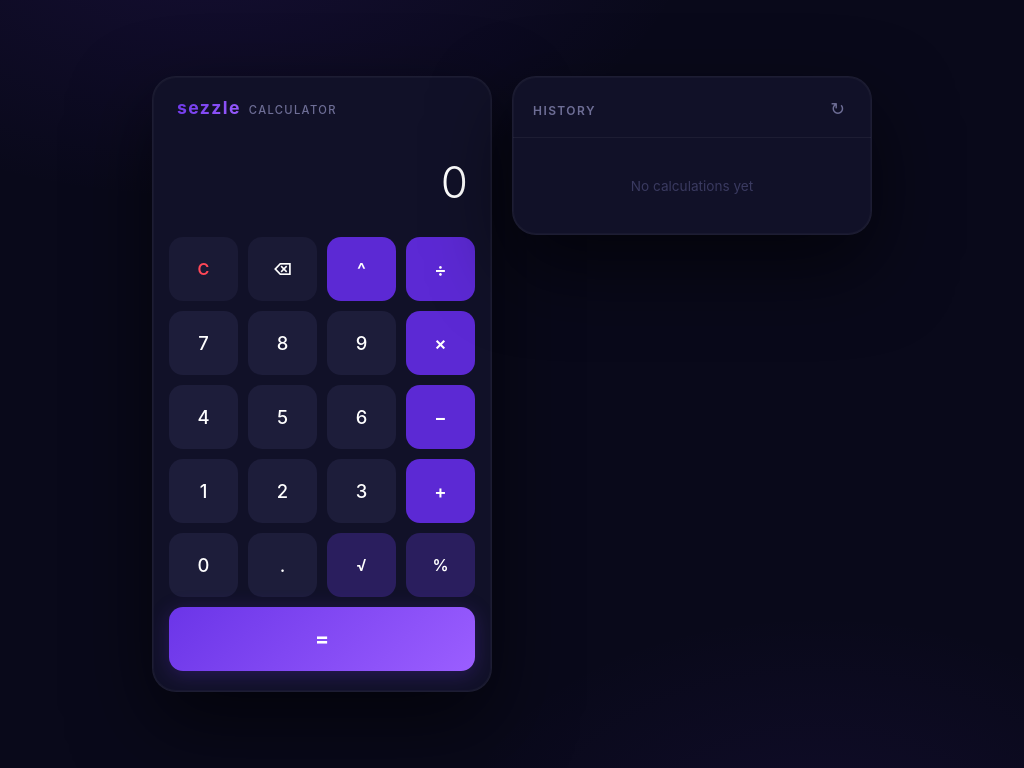
Test case: Calculator — interactions › shows result after a calculation
Click the button "1" at (204, 491), box [169,459,238,523]
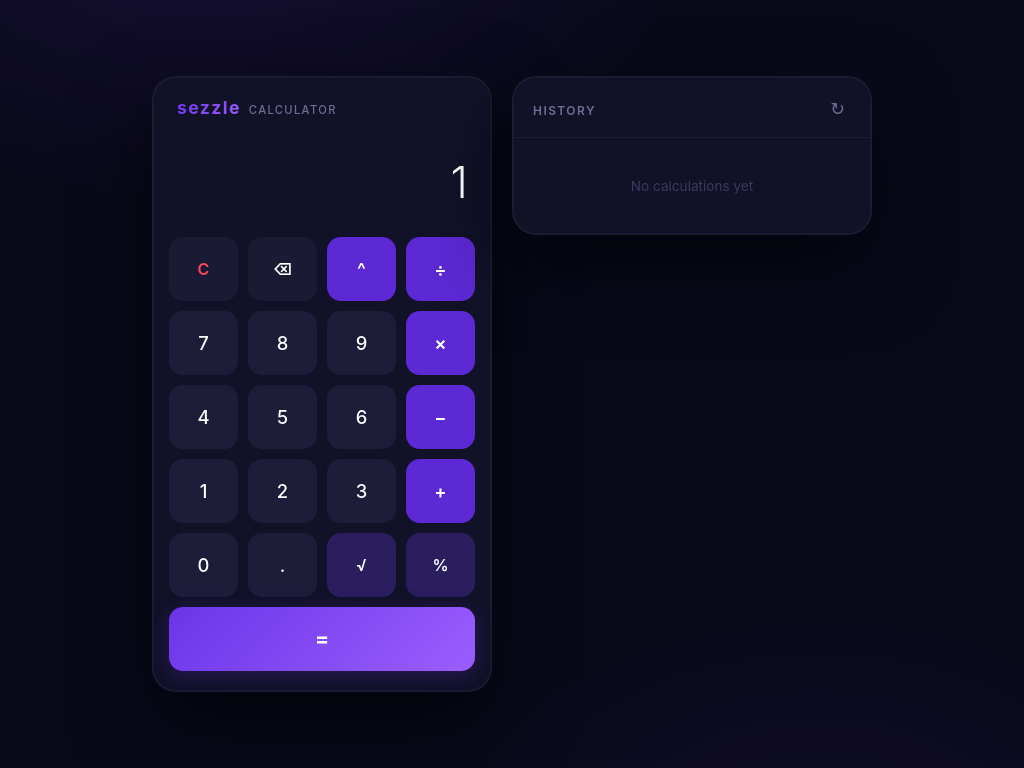
Click the button "0" at (204, 565), box [169,533,238,597]
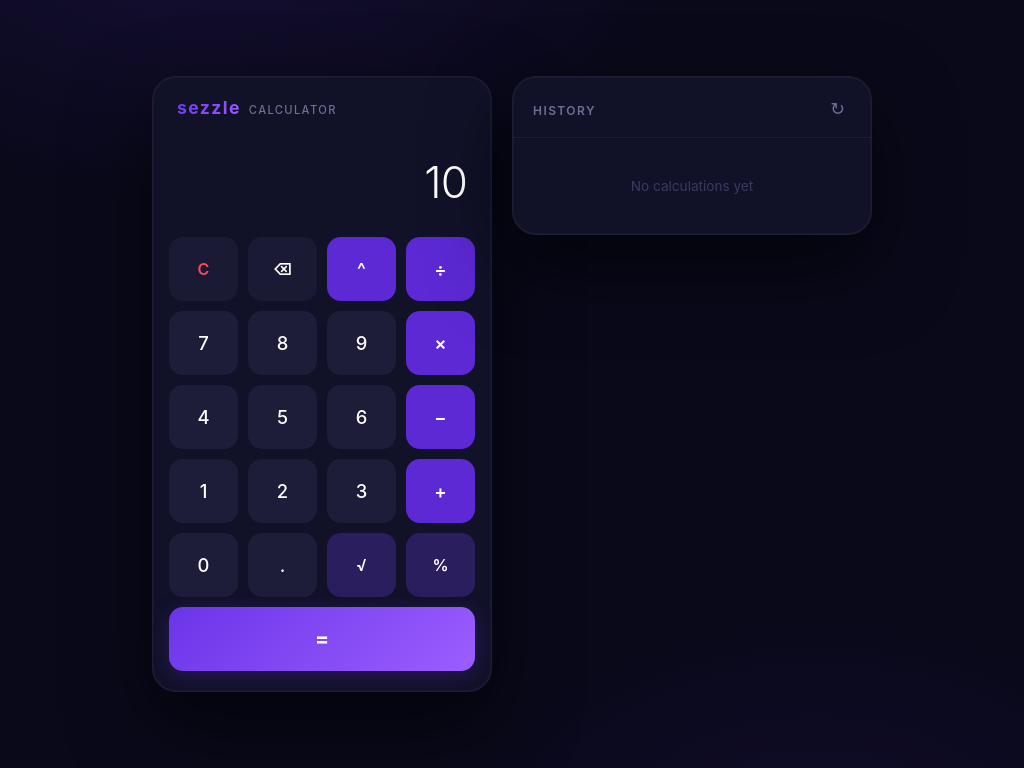
Click the button named "add" at (440, 491), box [406,459,475,523]
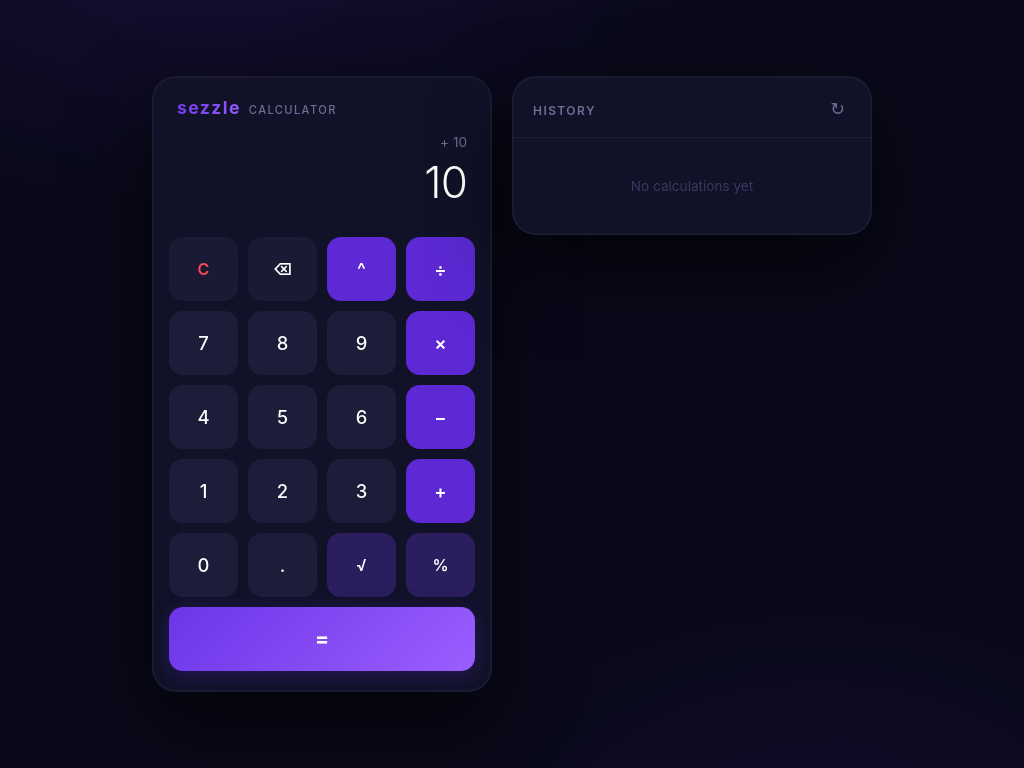
Click the button "5" at (282, 417), box [248,385,317,449]
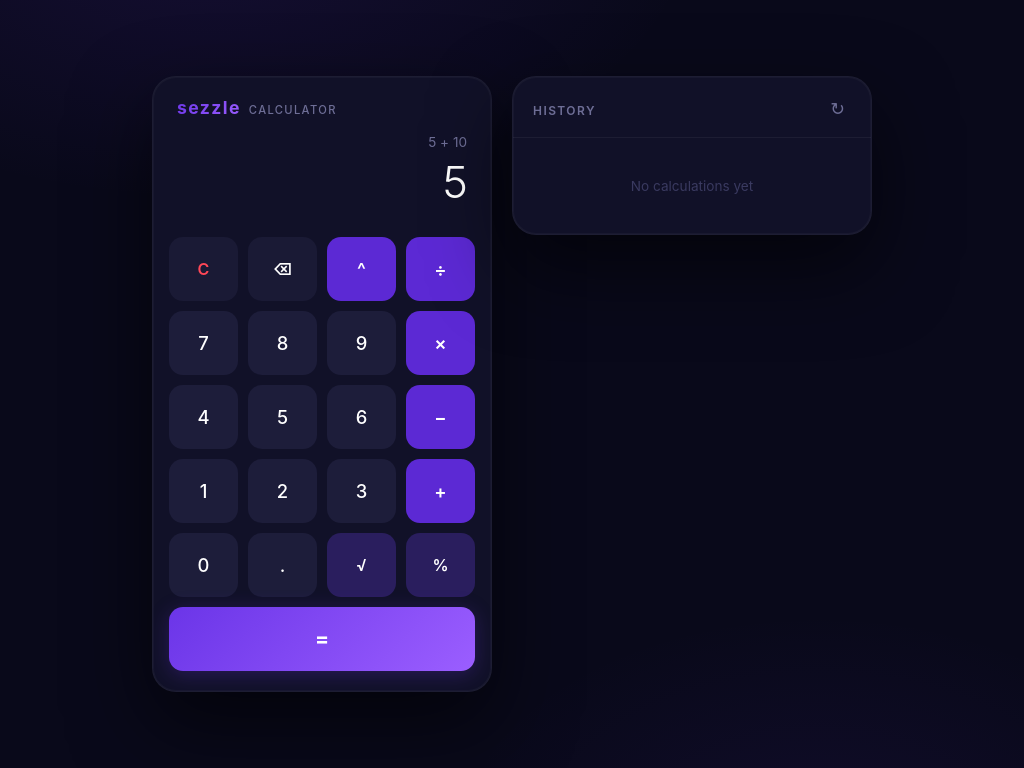
Click the button "=" at (322, 639), box [169,607,475,671]
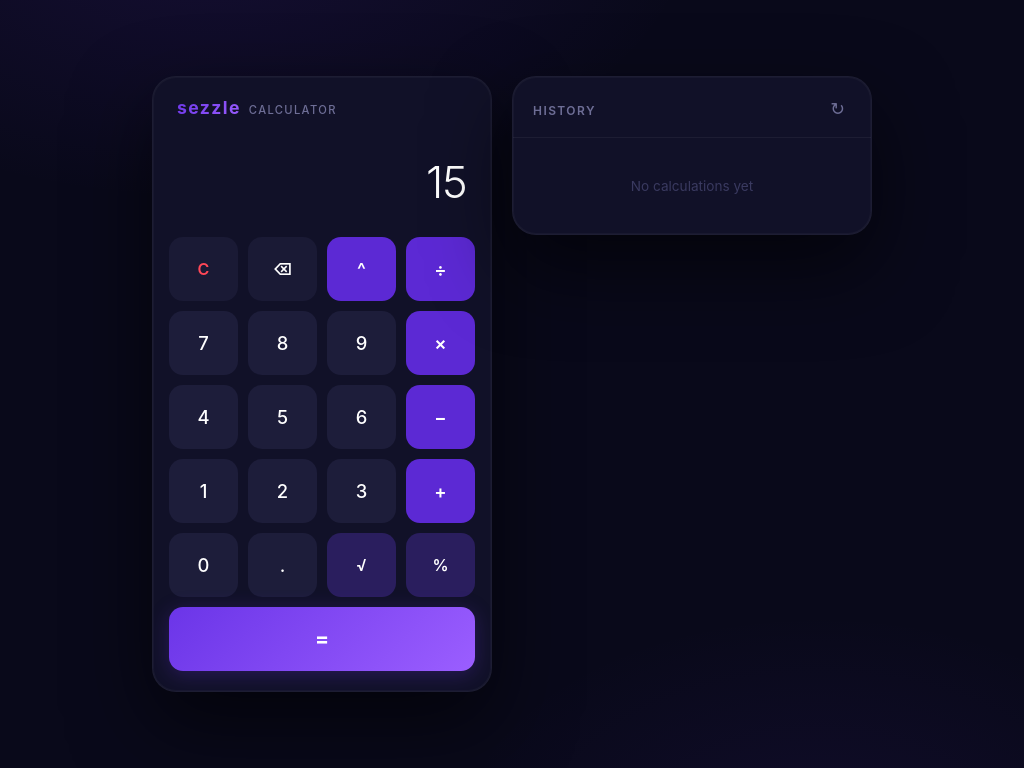
Now the text "15" is shown, box [426,155,467,209]
